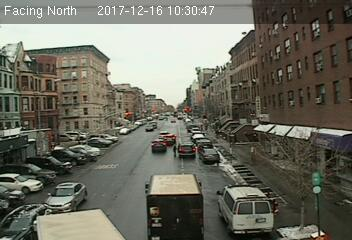car: (45, 182, 86, 212), (178, 141, 198, 159), (200, 149, 219, 162), (151, 139, 167, 153)
police: (215, 181, 274, 234)
ups: (141, 173, 207, 239)
